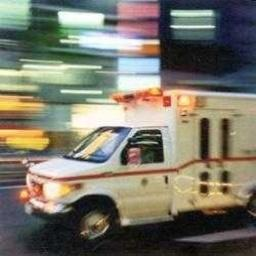ambulance: (25, 88, 255, 240)
